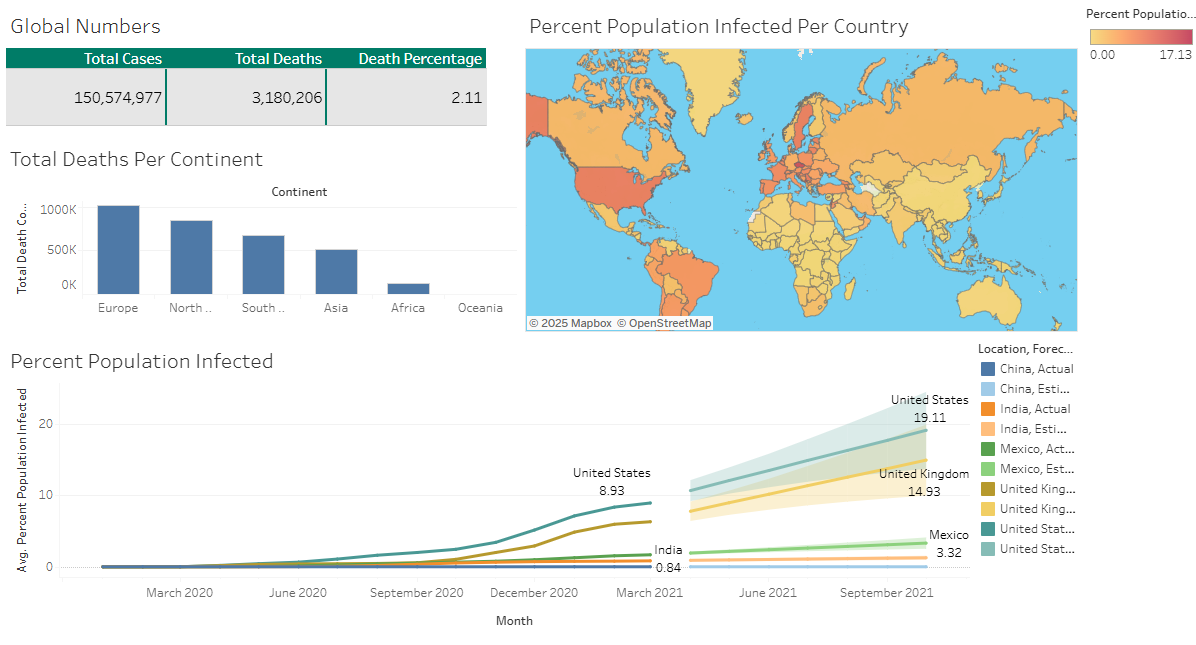

The dashboard page shown, as its layout file describes it:
{"tool":"tableau","page":{"name":"Dashboard 1","canvas":[1000,1000],"units":"permille","ordinal":0},"visuals":[{"type":"worksheet","title":"Sheet 1","mark":"Automatic","box":[5.8,11.7,433.6,204.7]},{"type":"worksheet","title":"Sheet 3","mark":"Automatic","box":[439.4,11.7,468.1,513.1]},{"type":"legend","title":"Sheet 3","param":"[federated.0eoli940xym6es1gt0ivy0twlz5m].[sum:PercentPopulationInfected:qk]","box":[907.5,11.7,86.7,95]},{"type":"worksheet","title":"Sheet 2","mark":"Automatic","rows":["TotalDeathCount"],"cols":["location"],"box":[5.8,216.4,433.6,308.5]},{"type":"worksheet","title":"Sheet 4","mark":"Automatic","rows":["PercentPopulationInfected"],"cols":["date"],"box":[5.8,524.9,811.4,463.4]},{"type":"legend","title":"Sheet 4","param":"[federated.0xy4zz3081on351dnaq6a0cw11mj].[none:Location:nk]\n[federated.0xy4zz308","box":[817.2,524.9,90.3,463.4]}]}

Visuals, with their boxes on the dashboard's canvas, which has no fixed pixel size, in thousandths of its width and height (x1, y1, x2, y2). These are canvas units, not pixel positions in the 1196x645 screenshot, which may show the page scaled, cropped or inside an application window:
"Sheet 1" worksheet: box=[6, 12, 439, 216]
"Sheet 3" worksheet: box=[439, 12, 908, 525]
"Sheet 3" legend: box=[908, 12, 994, 107]
"Sheet 2" worksheet: box=[6, 216, 439, 525]
"Sheet 4" worksheet: box=[6, 525, 817, 988]
"Sheet 4" legend: box=[817, 525, 908, 988]
